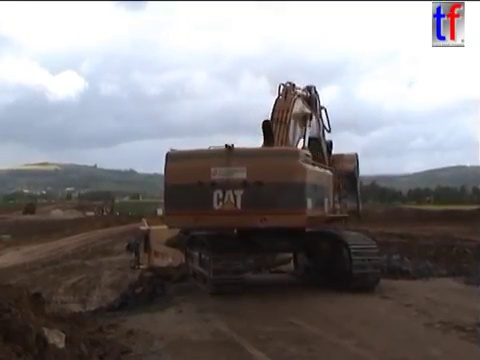excavator: (159, 78, 387, 296), (82, 202, 113, 220)
truck: (122, 215, 297, 299), (20, 199, 40, 216)
